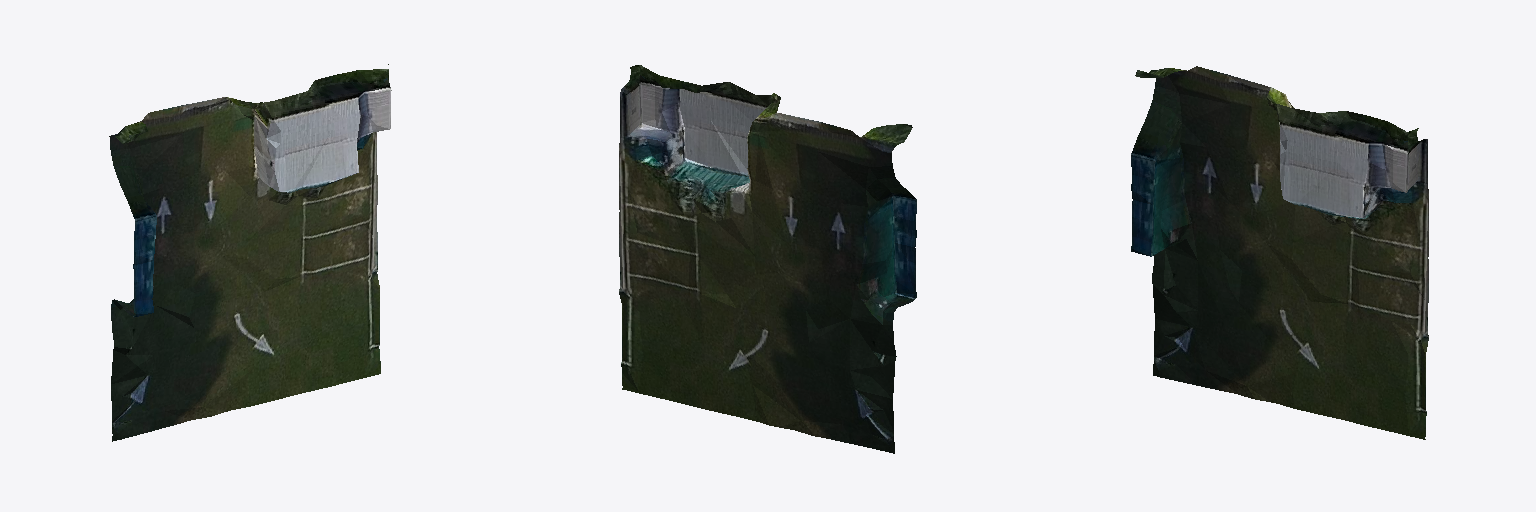
3 renders of one model, left to right at view 1: azimuth 30°, elevation 25°; view 2: azimuth 150°, elevation 25°; view 3: azimuth 330°, elevation 25°, orthographic.
Visible parts, largest first — view 1: obj_0; view 2: obj_0; view 3: obj_0.
Boxes of the visible parts, x1=… form: obj_0: x1=109, y1=64, x2=391, y2=441; obj_0: x1=619, y1=65, x2=916, y2=453; obj_0: x1=1131, y1=66, x2=1428, y2=439.
Bounding box in the file's own units: 20.08 × 22.56 × 3.64.
1 materials, 1 textured.